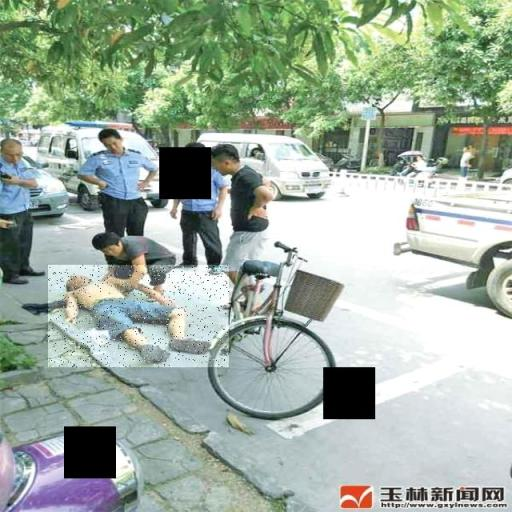Fall: (48, 265, 229, 367)
